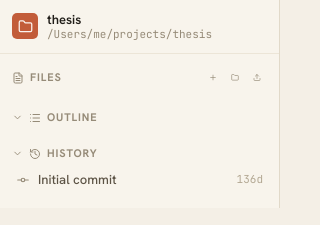
Sidebar — collapsible OUTLINE + HISTORY sections › clicking a section header hides its body; clicking again shows it
Click the button "History": (72, 153) [8, 148, 271, 166]
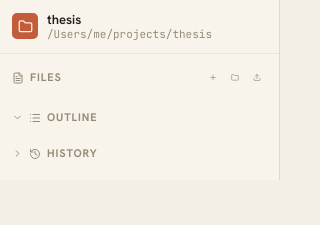
Now the text "Initial commit" is gone
Now the button "History" is collapsed
Click the button "History": (72, 153) [8, 148, 271, 166]
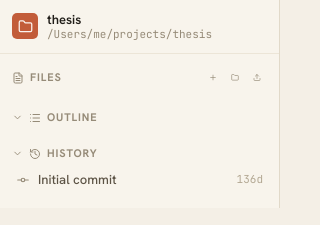
Now the text "Initial commit" is shown, box [38, 171, 116, 188]
Now the button "History" is expanded, box [8, 148, 271, 166]
